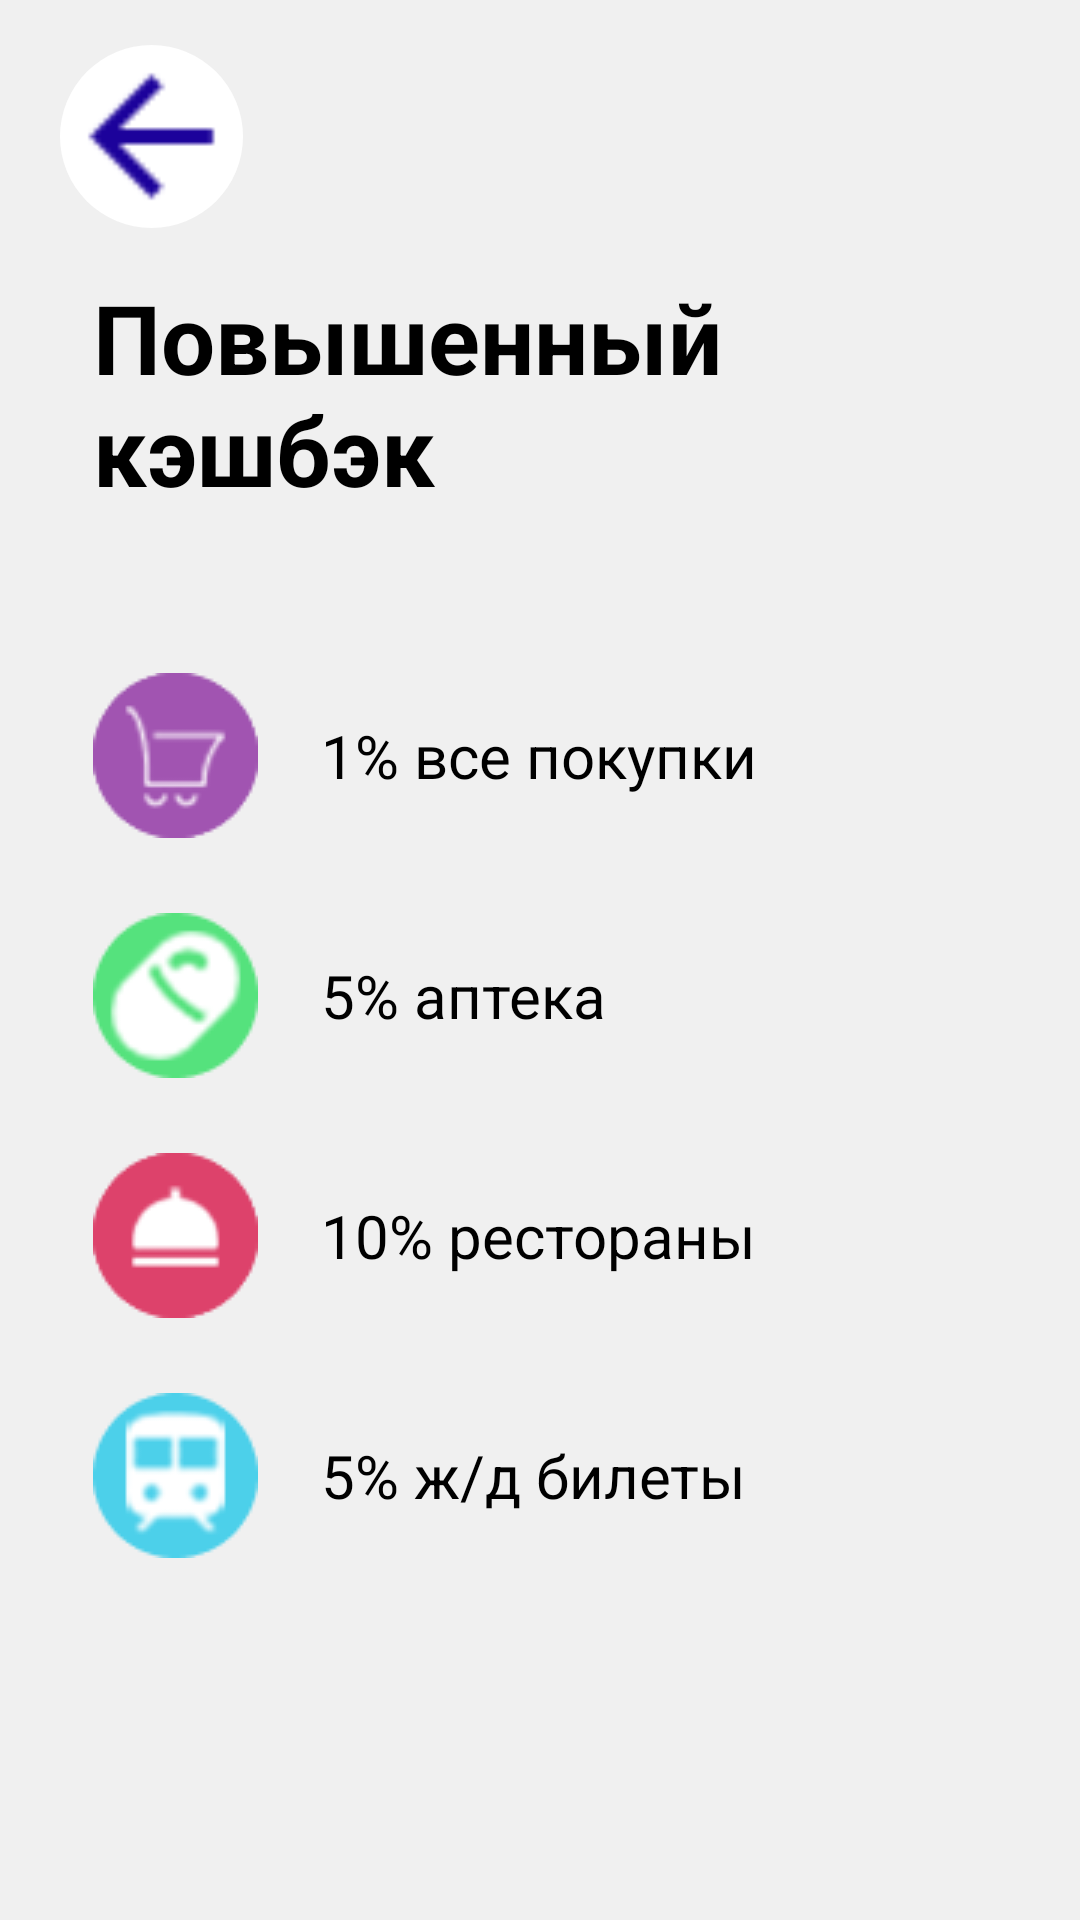

Icon click points for this 1080 × 1920 phone screenshot, format (x=x, y=y):
apteka: (x=175, y=995)
back: (x=151, y=136)
bludo: (x=175, y=1235)
shop: (x=175, y=755)
train: (x=175, y=1475)
